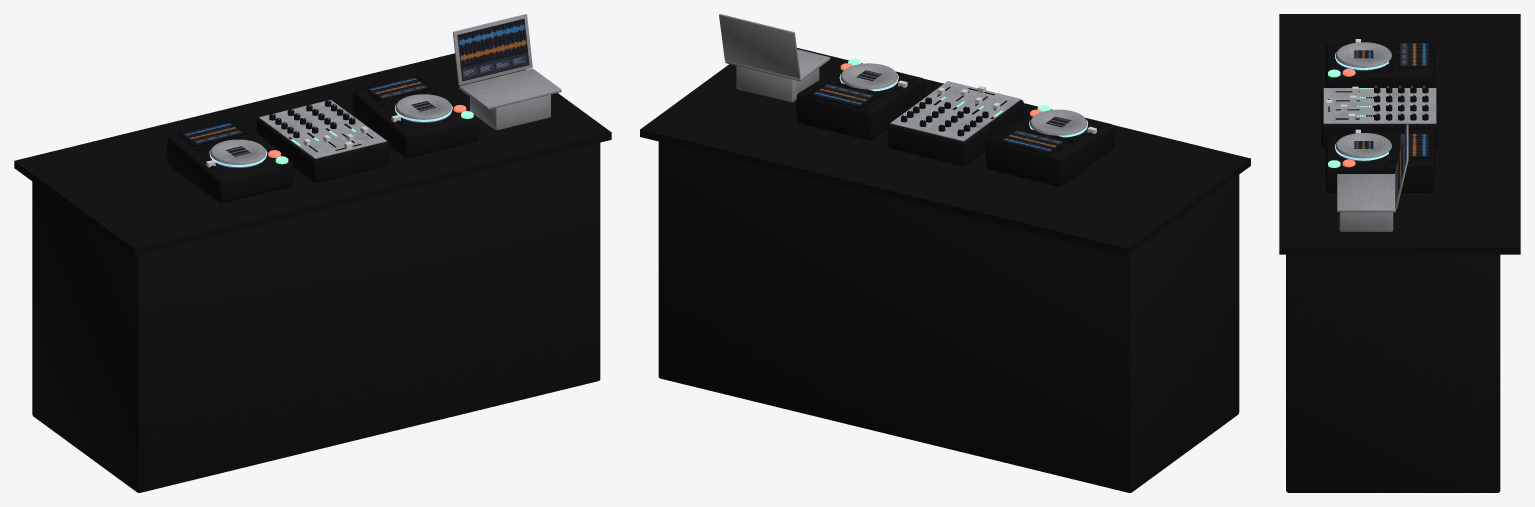
The model's file is dj_booth_facade.gltf.
3 views of the same model, side by side, from view 1: azimuth 30°, elevation 25°; view 2: azimuth 150°, elevation 25°; view 3: azimuth 270°, elevation 25° (orthographic). The views are drawn at different scales.
Parts seen in each view (by area): view 1: dj_booth_facade; view 2: dj_booth_facade; view 3: dj_booth_facade.
Part boxes in pixels (box(x1,y1,x2,y2)): dj_booth_facade: box(14, 14, 611, 492); dj_booth_facade: box(640, 14, 1250, 492); dj_booth_facade: box(1279, 14, 1520, 492).
Size of the model in its own units: 2.06 by 1.35 by 0.9.
Materials: 10 (6 with a texture image).
